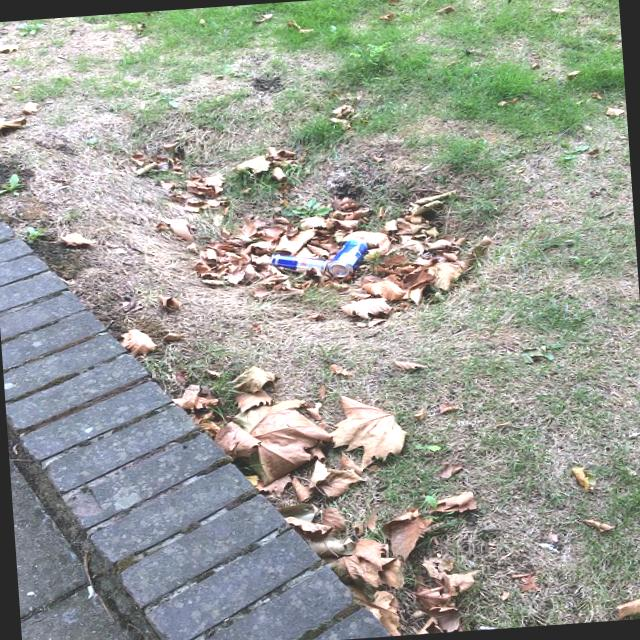Recycle: (324, 227, 370, 283), (268, 250, 326, 278)
